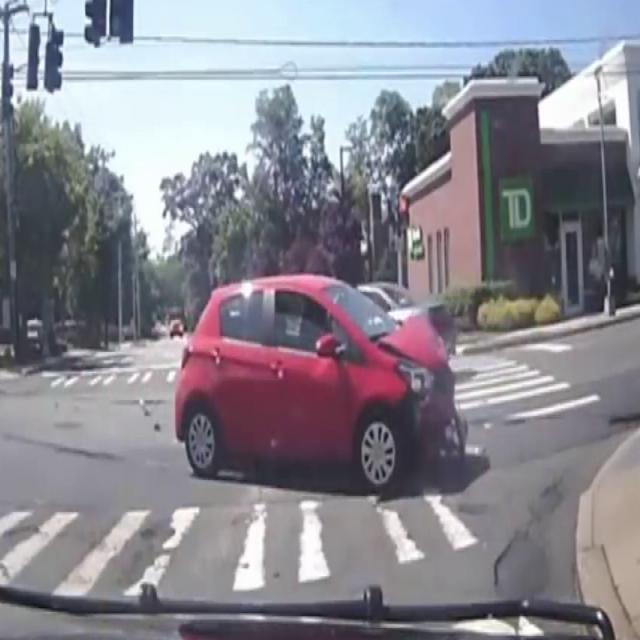accident: (166, 265, 460, 513)
